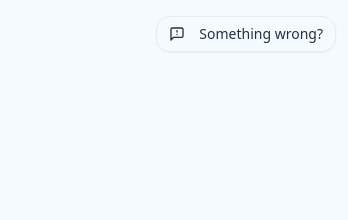
Test case: TrialReportControl › keeps the note optional and second
Click the button "Something wrong?" at (246,34), box [156, 16, 336, 52]
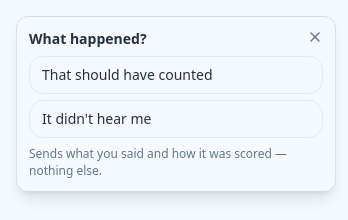
Click the button "It didn't hear me" at (97,119), box [29, 100, 323, 138]
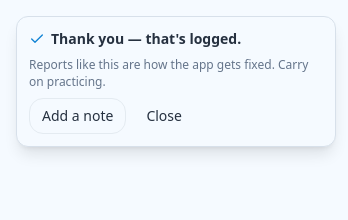
Check: the text "Thank you — that's logged." is shown, box [29, 29, 241, 48]
Click the button "Add a note" at (78,116), box [29, 98, 126, 134]
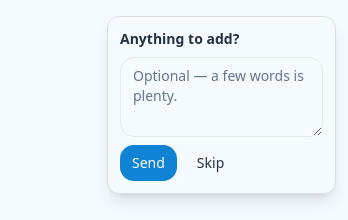
Check: the text box is shown, box [120, 57, 323, 137]
